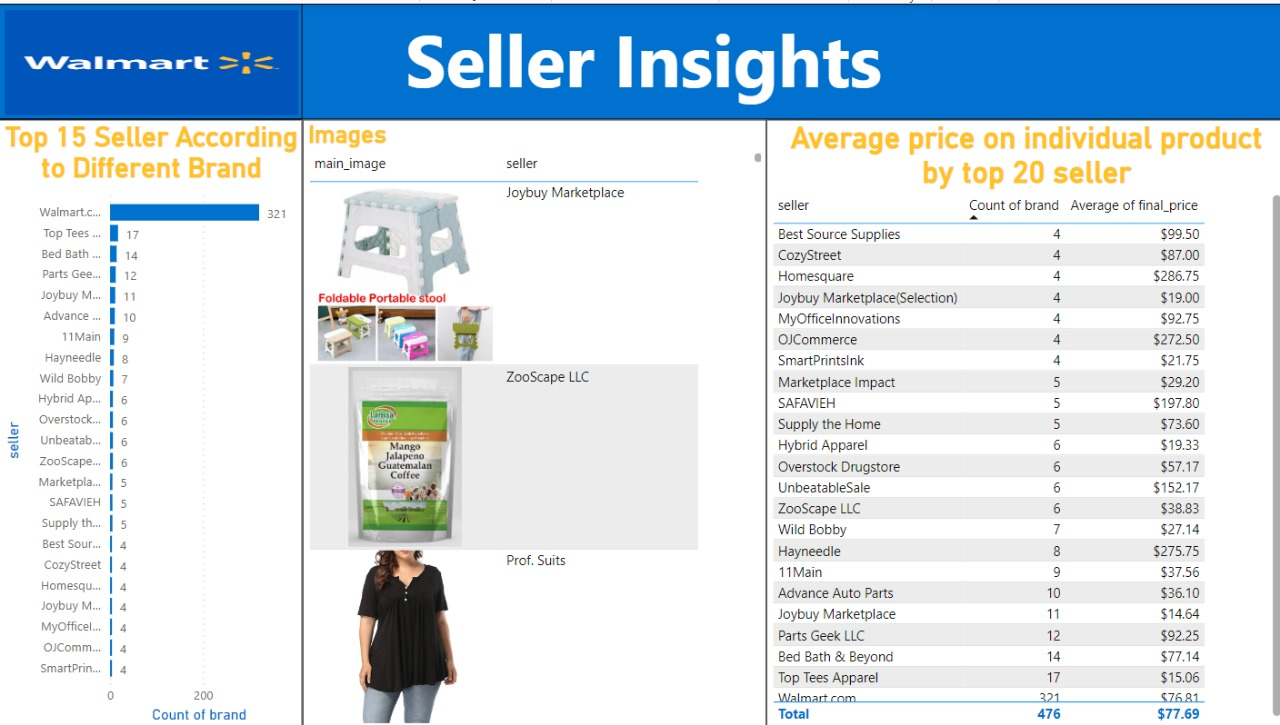

What the dashboard file says about the page in this screenshot:
{"tool":"powerbi","page":{"name":"Seller Insights","canvas":[1280,720],"ordinal":4},"visuals":[{"type":"clusteredBarChart","title":"Top 15 Seller According to Different Brand","fields":{"Category":["Walmart products dataset.seller"],"Y":["CountNonNull(Walmart products dataset.brand)"]},"box":[0,115,301.7,605],"z":0},{"type":"textbox","box":[0,0,1280,115],"z":1000},{"type":"tableEx","title":"Average price on individual product by top 20 seller ","fields":{"Values":["Walmart products dataset.seller","Walmart products dataset.brand","Avg(Walmart products dataset.final_price)"]},"box":[763.3,115.6,516.7,604.4],"z":2000},{"type":"image","box":[0,0,301.7,115],"z":3000},{"type":"tableEx","title":"Images","fields":{"Values":["Walmart products dataset.main_image","Walmart products dataset.seller"]},"box":[301.7,115,461.7,605],"z":4000}]}

Visuals, with their boxes in screenshot pixels (x1, y1, x2, y2), scaled from the page's 1280x720 canvas onto the 1280x725 screenshot:
"Top 15 Seller According to Different Brand" clusteredBarChart: 0,116,302,724
textbox: 0,0,1279,116
"Average price on individual product by top 20 seller " tableEx: 763,116,1279,724
image: 0,0,302,116
"Images" tableEx: 302,116,763,724
